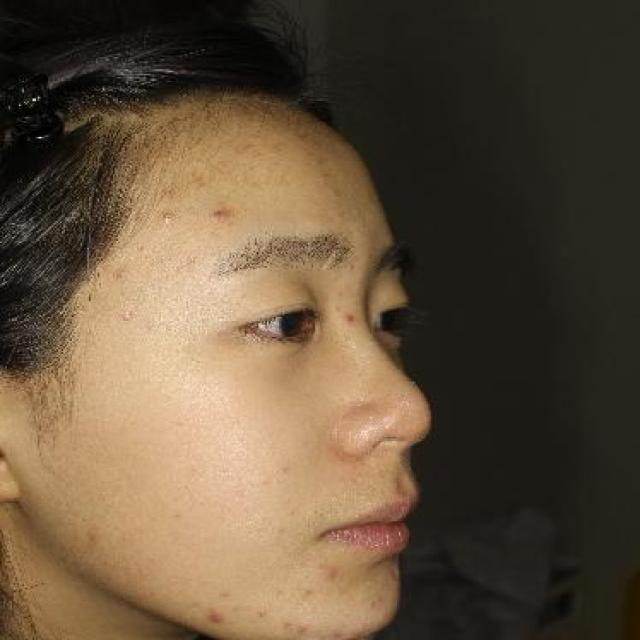Acne: (314, 556, 347, 589), (207, 201, 236, 234), (195, 603, 233, 628), (334, 306, 362, 331), (82, 523, 104, 553), (275, 457, 299, 480), (214, 586, 238, 602), (292, 622, 311, 640), (279, 617, 298, 634), (272, 522, 292, 538), (300, 584, 317, 598)
Whiteheads: (154, 200, 188, 229), (252, 603, 273, 622)
